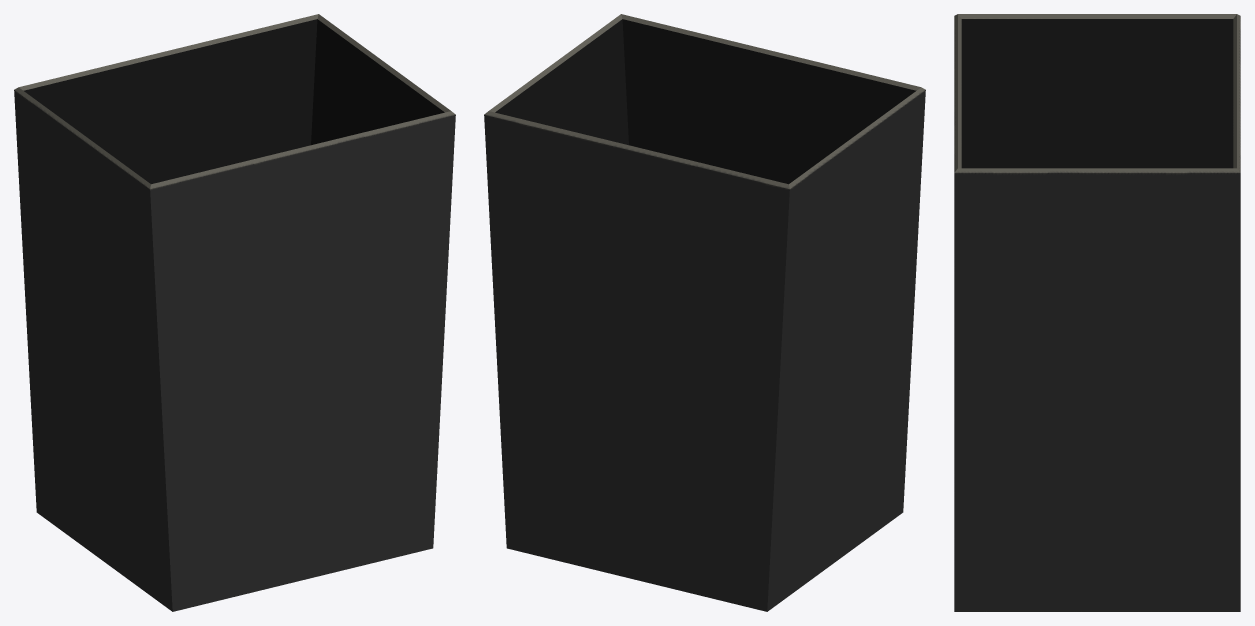
Rendered from Trash_Bin_Black.fbx.
The picture shows the model from 3 angles, left to right: view 1: azimuth 30°, elevation 25°; view 2: azimuth 150°, elevation 25°; view 3: azimuth 270°, elevation 25°; orthographic projection. The views are drawn at different scales.
Parts seen in each view (by area): view 1: Cube.001; view 2: Cube.001; view 3: Cube.001.
Boxes of the visible parts, bbox=[...] form: Cube.001: bbox=[14, 14, 455, 611]; Cube.001: bbox=[484, 14, 925, 611]; Cube.001: bbox=[954, 14, 1240, 611].
Size of the model in its own units: 25.97 by 35 by 20.
